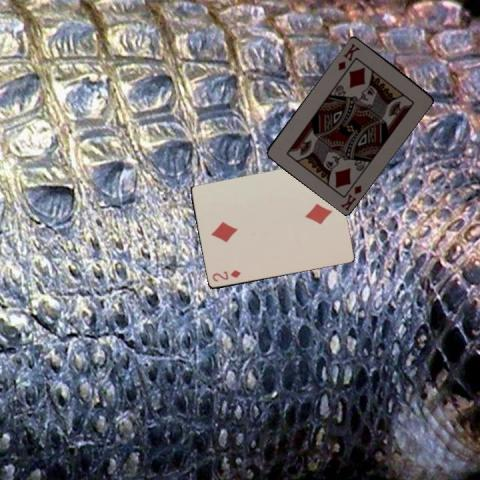2d: (209, 268, 242, 284)
Kd: (337, 175, 363, 212), (334, 40, 360, 72)
